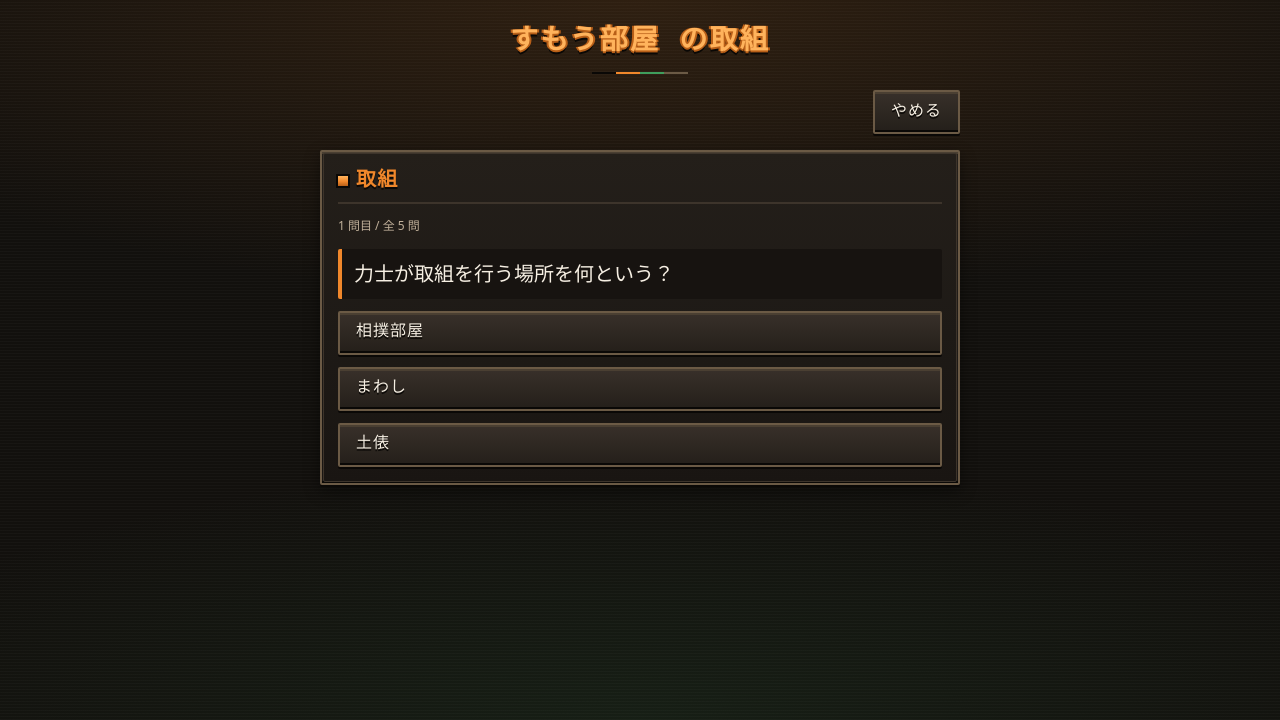
取組画面 › 不正解でも解説が出て、先に進める
The width and height of the screenshot is (1280, 720).
Expected: the text "力士が取組を行う場所を何という？" is shown, [338,249,942,299]
Click the button "相撲部屋" at (390, 332), box [338,311,942,355]
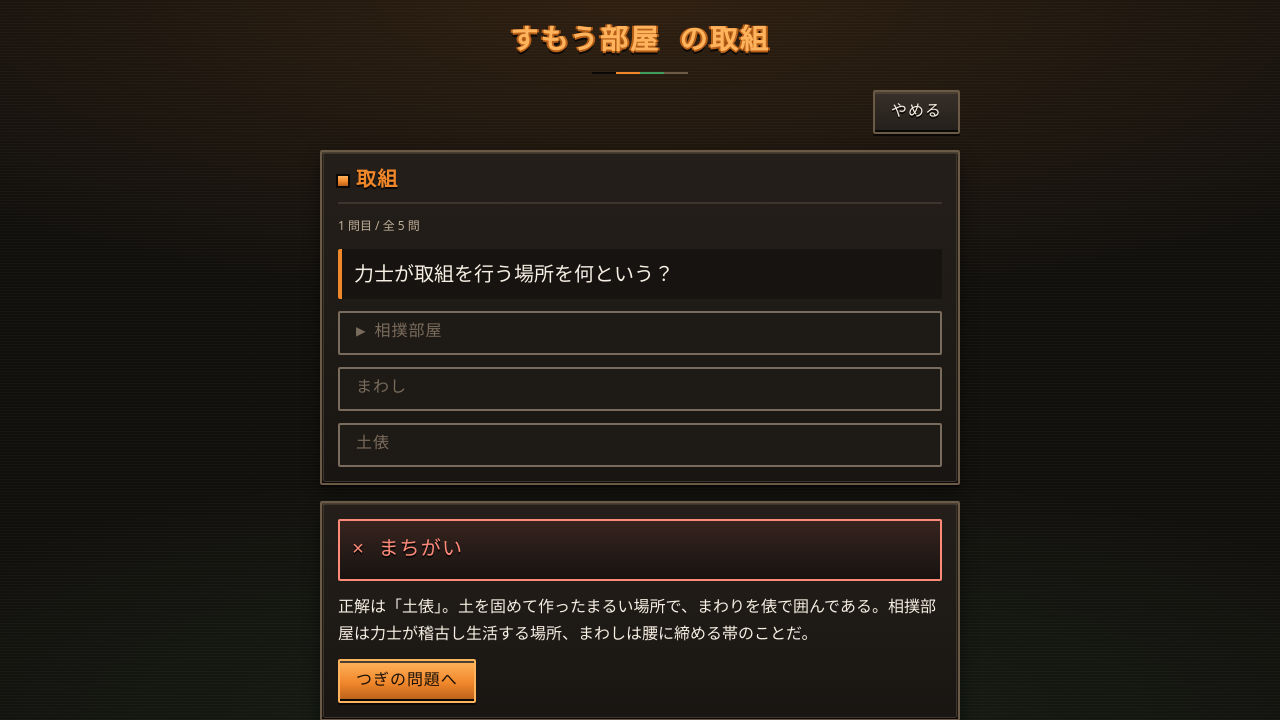
Result: the message shows "まちがい" at [352,538,463,561]
Result: the text "正解は「土俵」。土を固めて作ったまるい場所で、まわりを俵で囲んである。相撲部屋は力士が稽古し生活する場所、まわしは腰に締める帯のことだ。" is shown at [338,593,942,647]
Result: the button "つぎの問題へ" is shown at [338,659,476,703]
